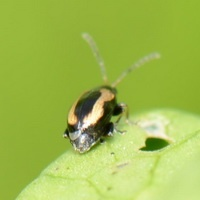insect: (64, 33, 159, 152)
